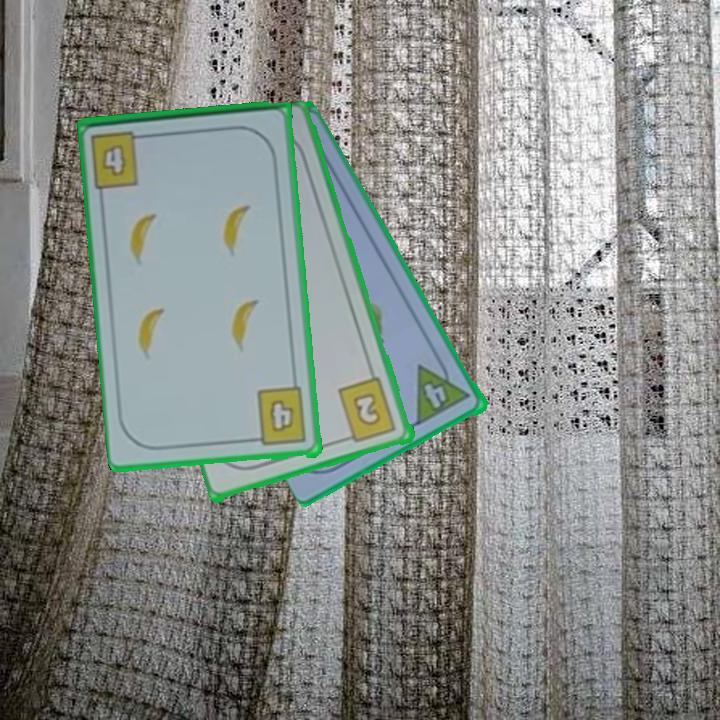2b: (335, 374, 400, 446)
4b: (87, 127, 153, 191), (247, 384, 310, 449)
4p: (412, 352, 474, 428)
